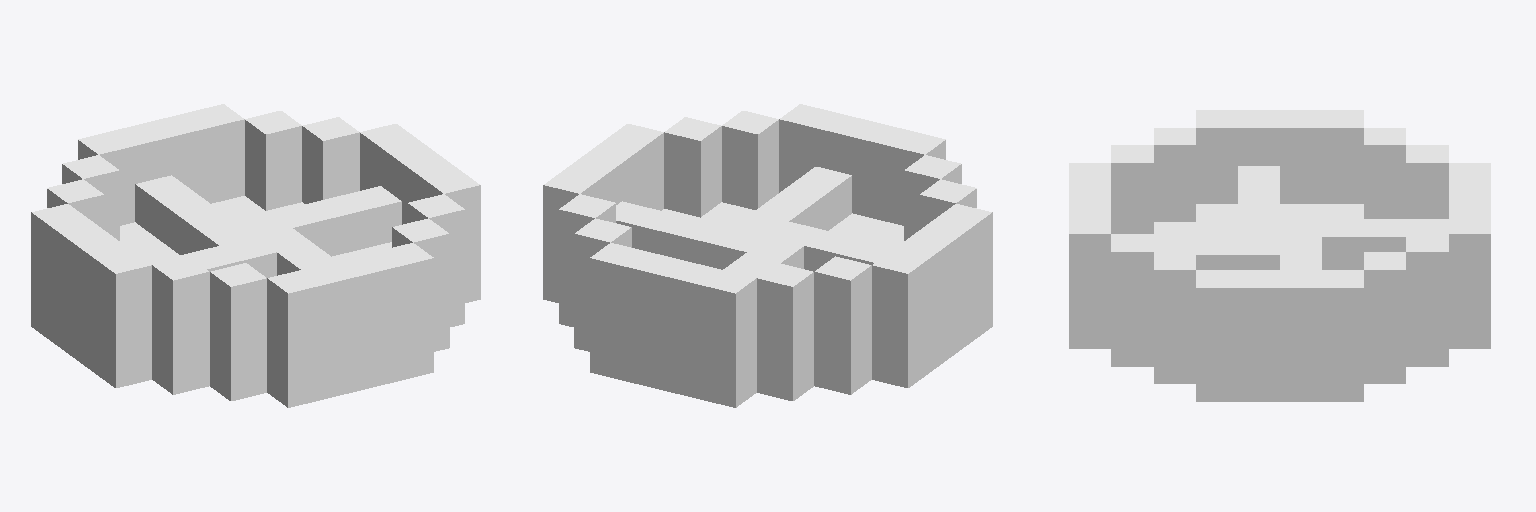
Rendered from bonfire_base.obj.
The picture shows the model from 3 angles: view 1: azimuth 30°, elevation 25°; view 2: azimuth 150°, elevation 25°; view 3: azimuth 270°, elevation 25°; orthographic projection.
Parts seen in each view (by area): view 1: object 1; view 2: object 1; view 3: object 1.
Boxes of the visible parts, box(x1,y1,x2,y2) form: object 1: box(31, 104, 480, 407); object 1: box(543, 104, 992, 407); object 1: box(1069, 110, 1490, 401).
Size of the model in its own units: 1 by 0.3 by 1.